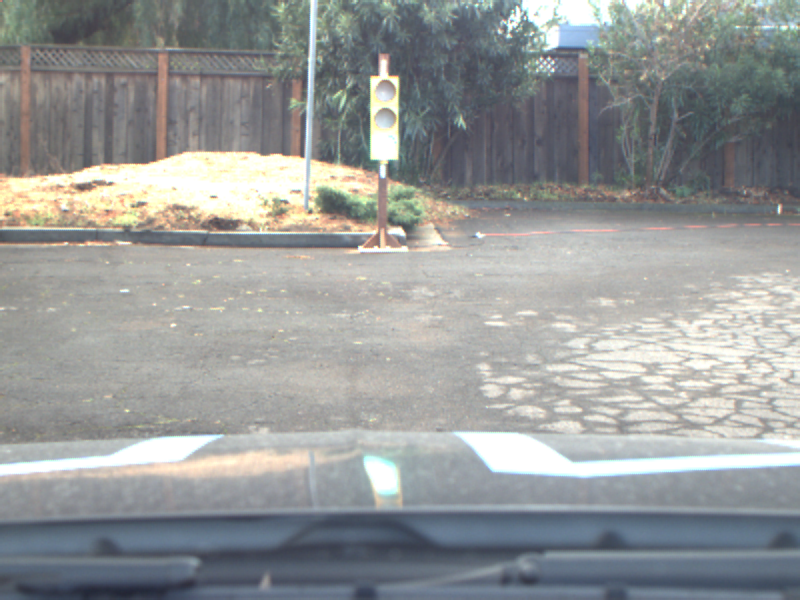Green: (369, 76, 399, 159)
